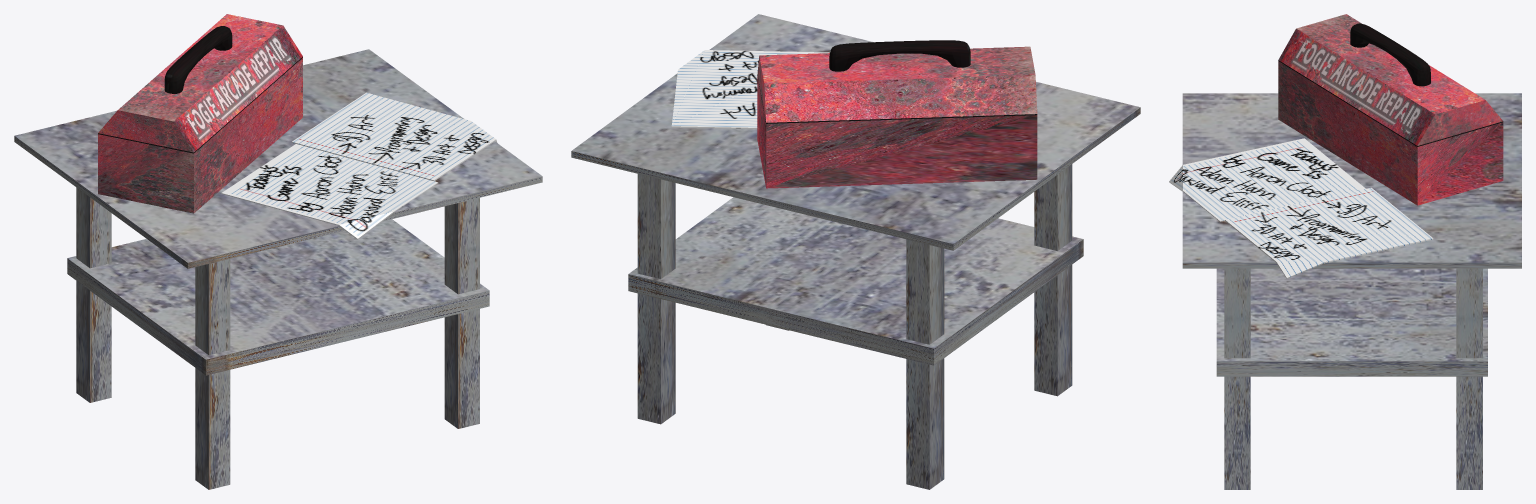
The model's file is Credits.fbx.
3 views of the same model, side by side, from view 1: azimuth 30°, elevation 25°; view 2: azimuth 150°, elevation 25°; view 3: azimuth 270°, elevation 25° (orthographic). The views are drawn at different scales.
Visible parts, largest first — view 1: Cube, Cube.001, Plane; view 2: Cube, Cube.001, Plane; view 3: Cube, Cube.001, Plane.
Part boxes in pixels (x1,y1,x2,y2): Cube: (14, 49, 542, 489); Cube.001: (98, 14, 302, 213); Plane: (221, 92, 497, 239); Cube: (571, 14, 1140, 489); Cube.001: (757, 40, 1037, 188); Plane: (671, 50, 830, 129); Cube: (1182, 93, 1521, 489); Cube.001: (1278, 14, 1503, 205); Plane: (1169, 138, 1433, 278).
Size of the model in its own units: 303 by 288 by 261.
